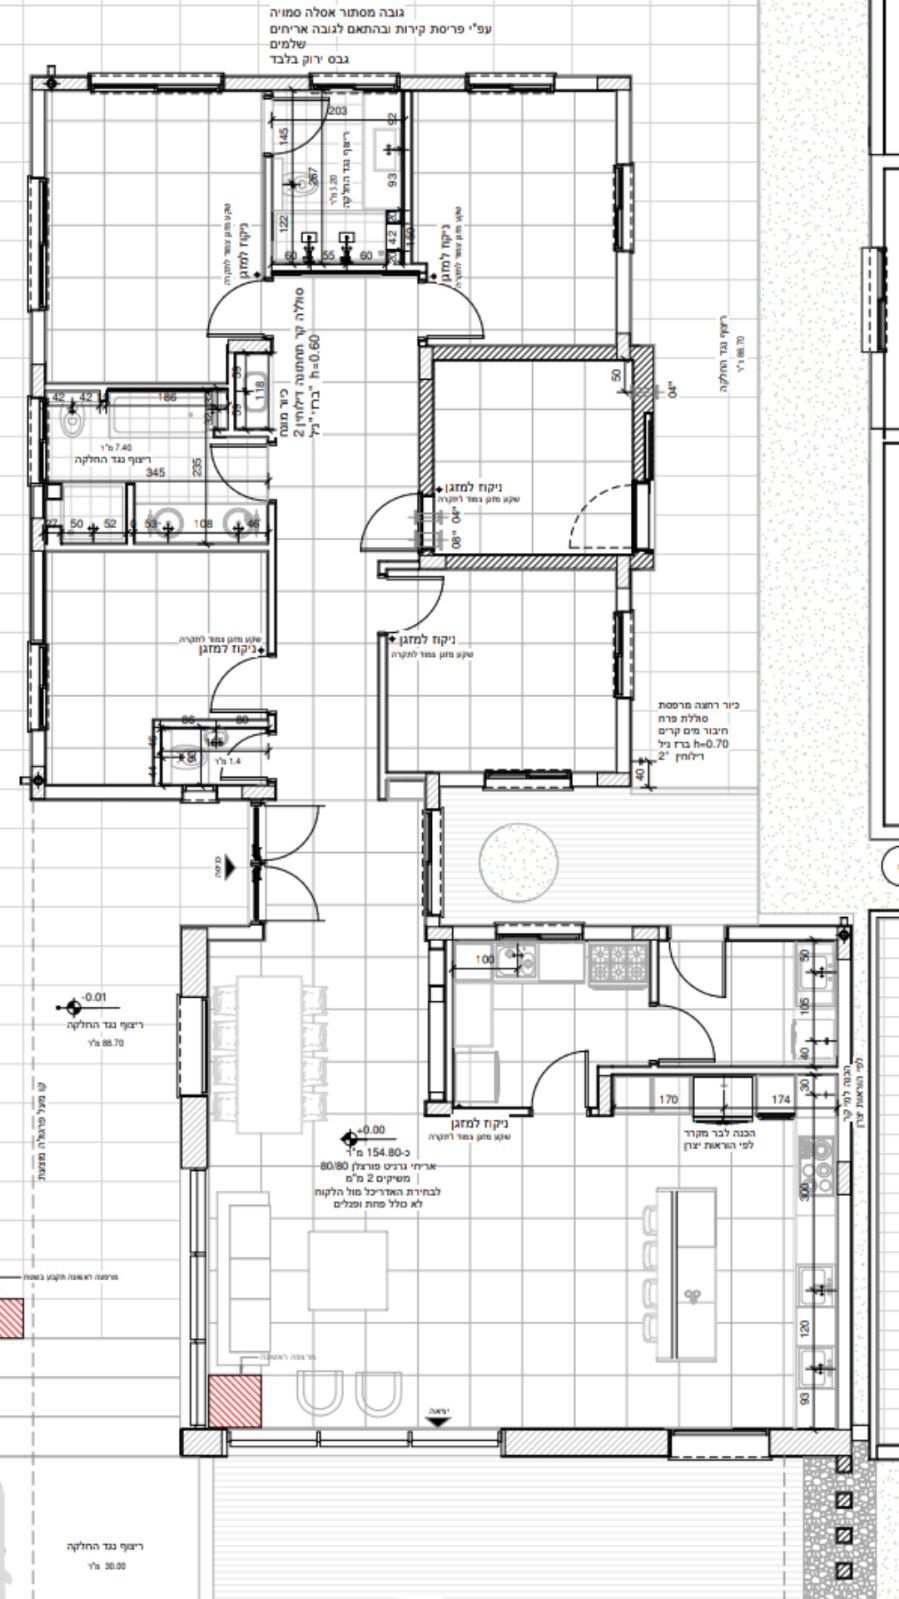door: (269, 804, 338, 865), (202, 655, 271, 716), (386, 570, 456, 631), (527, 1045, 596, 1106), (665, 942, 734, 1003), (268, 864, 337, 925), (346, 496, 415, 557), (202, 275, 262, 342), (426, 277, 486, 343), (207, 440, 267, 506), (662, 1005, 718, 1064)
wall: (446, 556, 617, 569), (432, 348, 617, 359), (419, 379, 435, 497)
